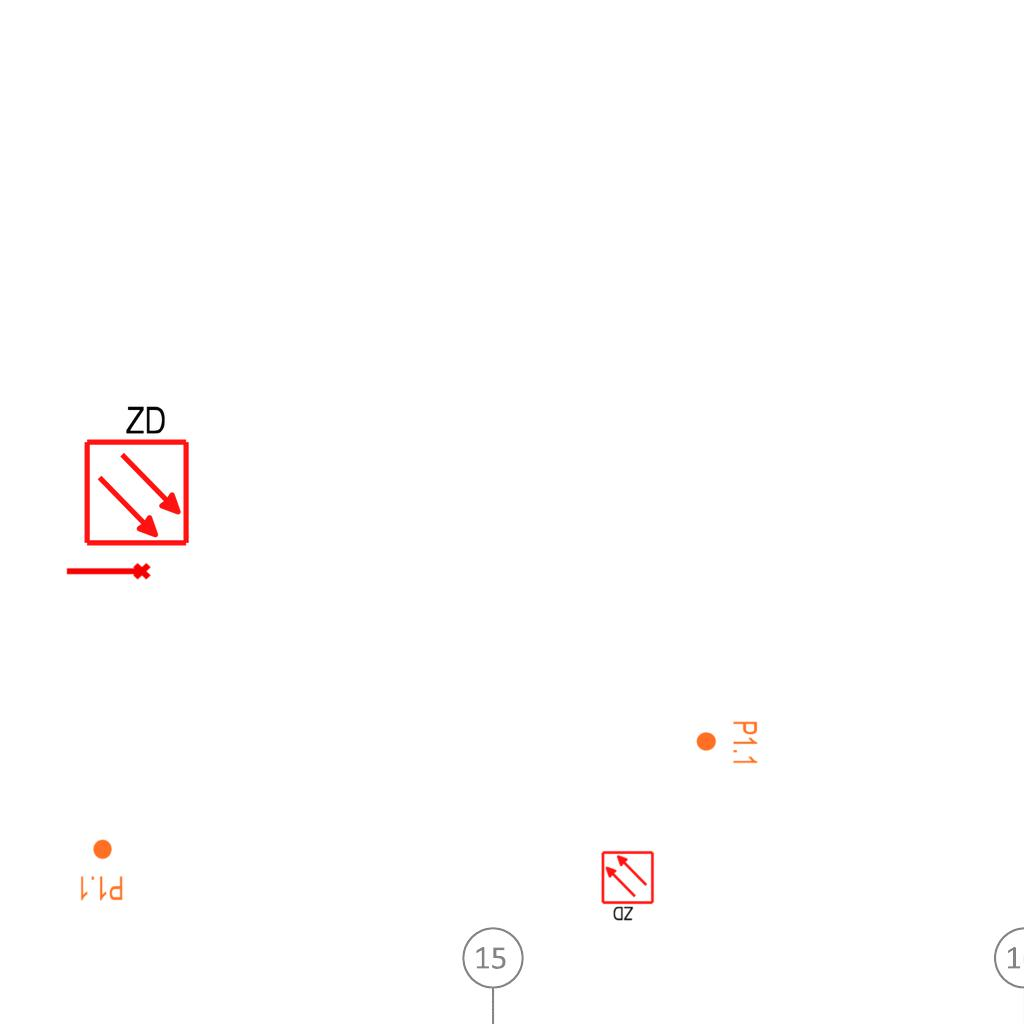ASR_Ansaugoeffnung: (64, 561, 152, 584)
Downlight_LED_Einbauleuchten_Flur: (78, 838, 124, 902), (695, 720, 759, 766)
ZD_Melder_in_Zwischendecke_mit_Revisionsoeffnung_mind_40_x_40_cm: (78, 399, 192, 548), (600, 850, 657, 924)
